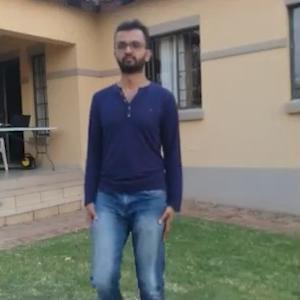follow: (83, 16, 179, 291)
